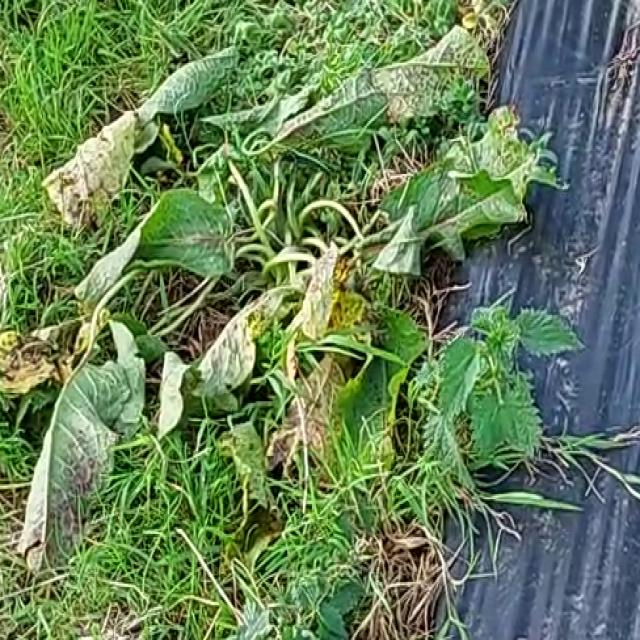organic waste: (31, 55, 551, 529)
